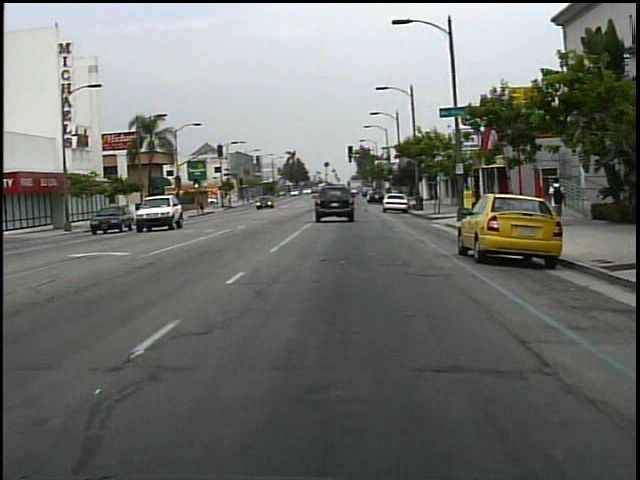person: (546, 171, 572, 220)
